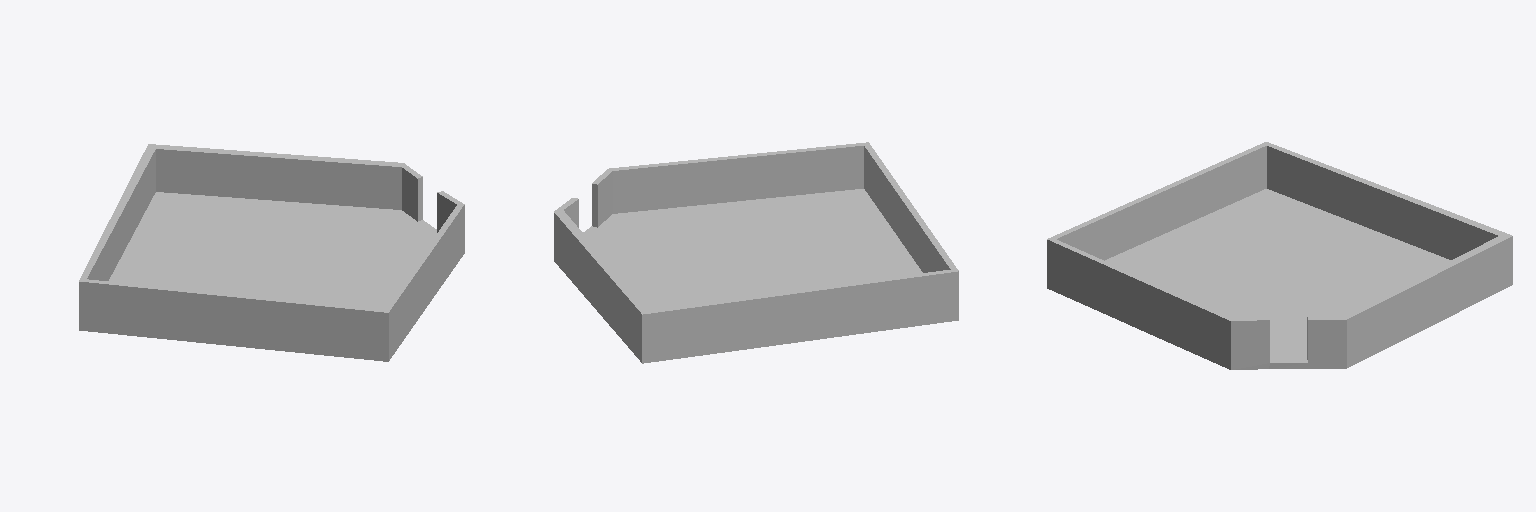
The model's file is Room6.obj.
3 renders of one model, left to right at view 1: azimuth 30°, elevation 25°; view 2: azimuth 150°, elevation 25°; view 3: azimuth 270°, elevation 25°, orthographic.
Visible parts, largest first — view 1: Room6; view 2: Room6; view 3: Room6.
Boxes of the visible parts, <box> form: Room6: <box>79,144,464,361</box>; Room6: <box>554,142,958,363</box>; Room6: <box>1047,142,1512,369</box>.
Bounding box in the file's own units: 31.43 × 4 × 34.45.